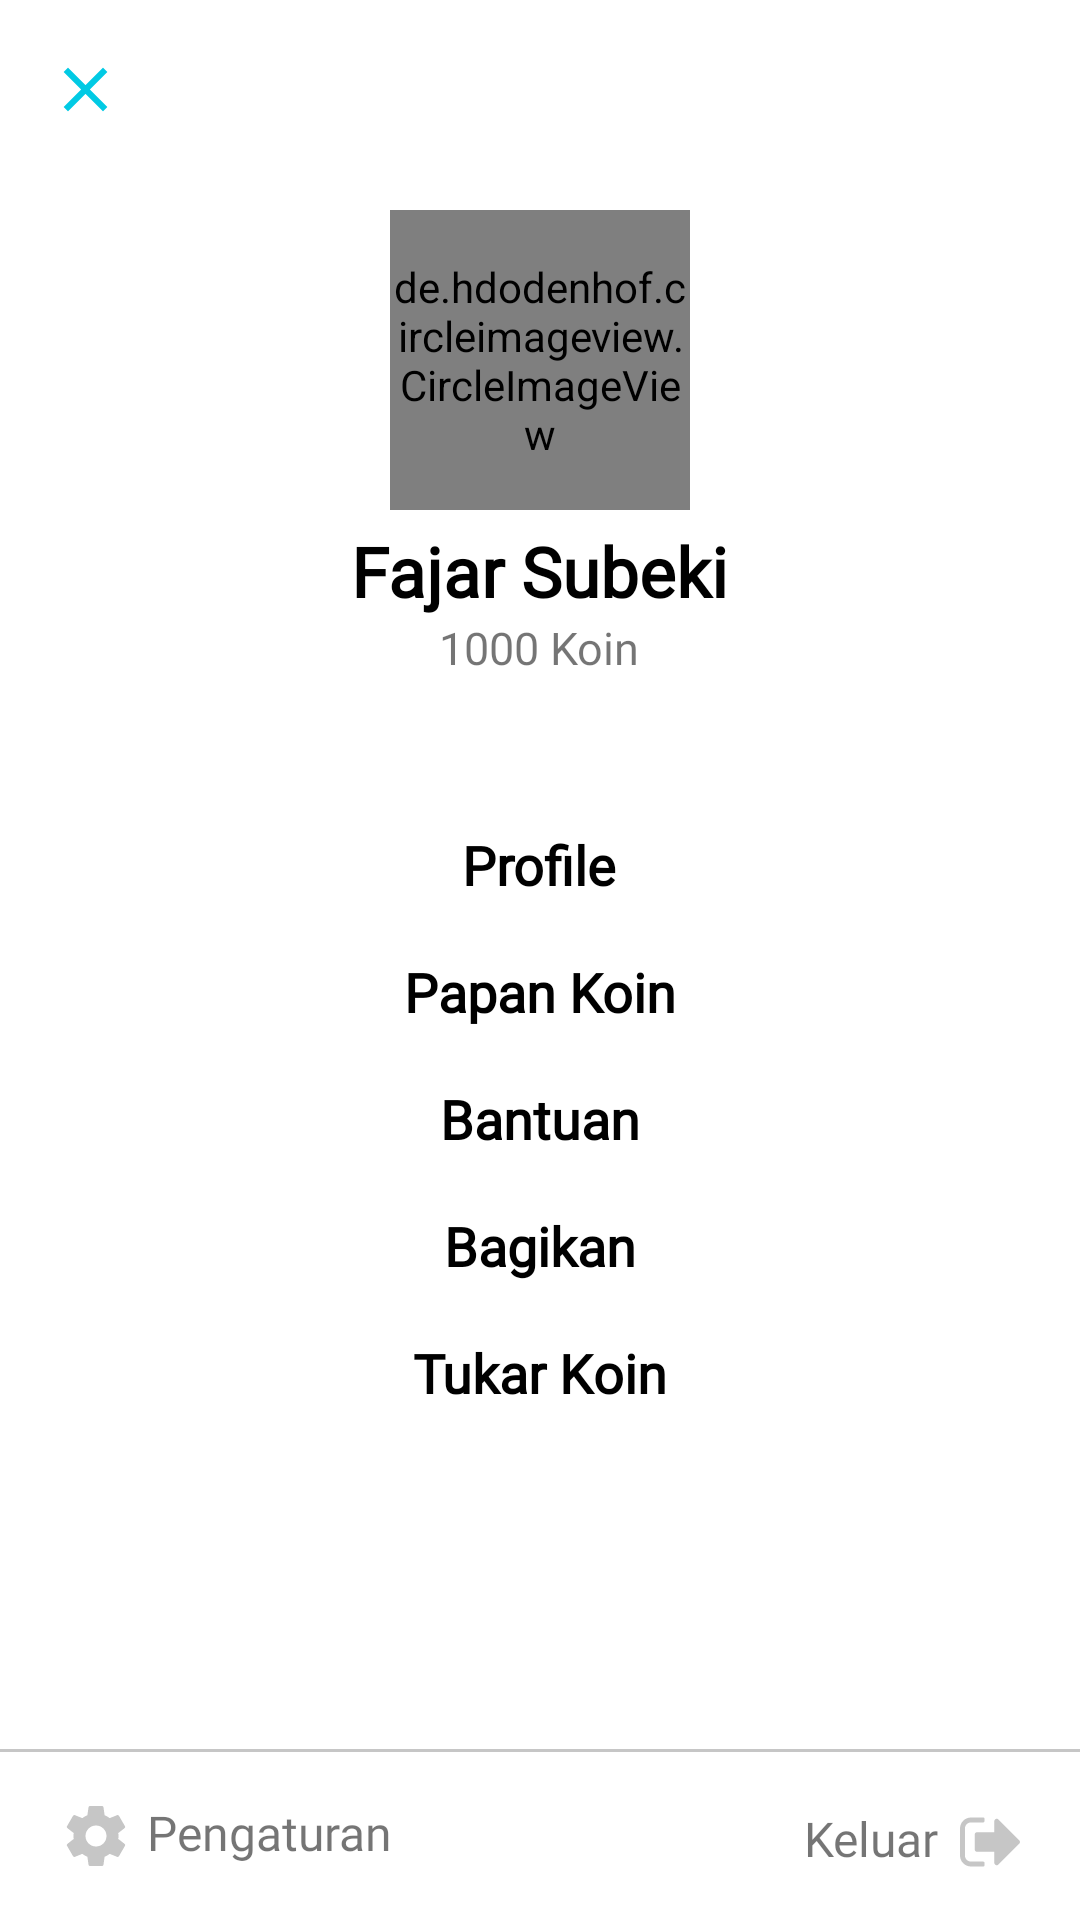

Where to tap for icons on this 1080×1920 app screen, as (x=x, y=y):
Go back: (x=85, y=89)
settings: (x=96, y=1836)
sign out option: (x=990, y=1842)
